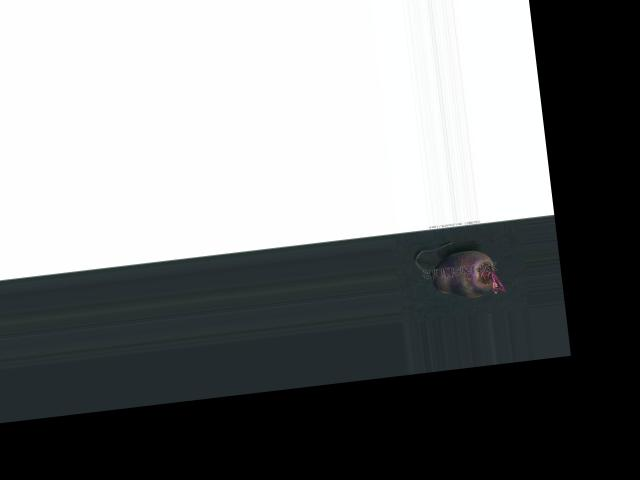beet: (413, 236, 508, 304)
